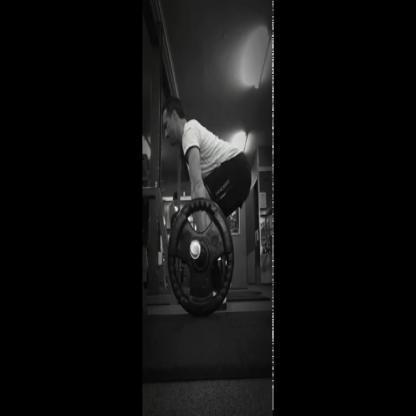barbell: (166, 196, 236, 321)
